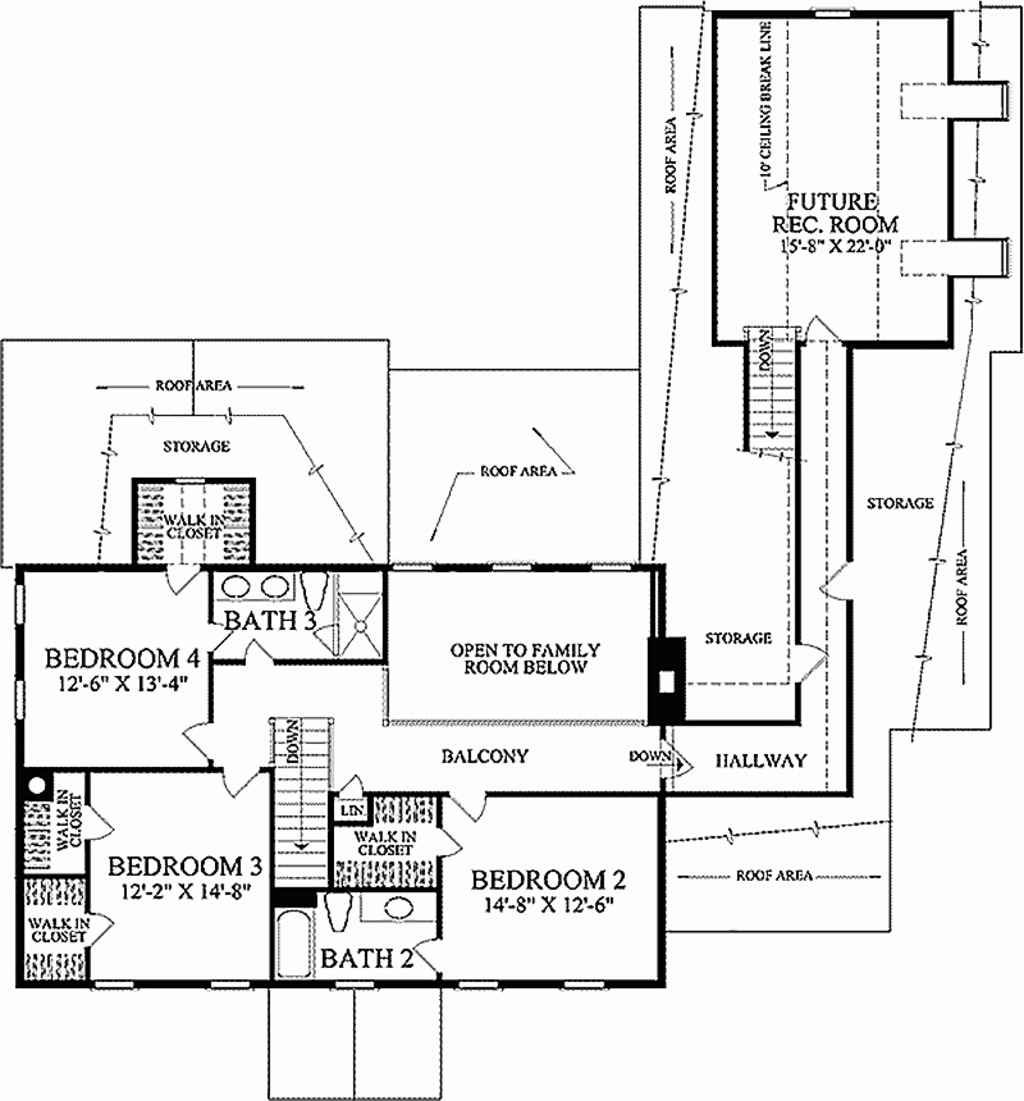door: (819, 557, 854, 610), (177, 719, 214, 768), (81, 801, 121, 844), (801, 313, 847, 350), (432, 821, 468, 866), (795, 642, 829, 688), (218, 765, 261, 801), (162, 559, 205, 593), (449, 789, 487, 827), (81, 909, 116, 950), (241, 637, 275, 667)
large_sink: (297, 569, 335, 614), (319, 890, 356, 934)
small_sink: (208, 567, 298, 605), (357, 887, 439, 924)
stairs: (263, 710, 335, 885), (733, 321, 798, 467)
tub: (273, 907, 317, 981)
window: (583, 553, 634, 577), (483, 559, 545, 576), (89, 972, 132, 992), (15, 676, 29, 722), (12, 584, 25, 633), (203, 980, 252, 990), (454, 983, 503, 990)
